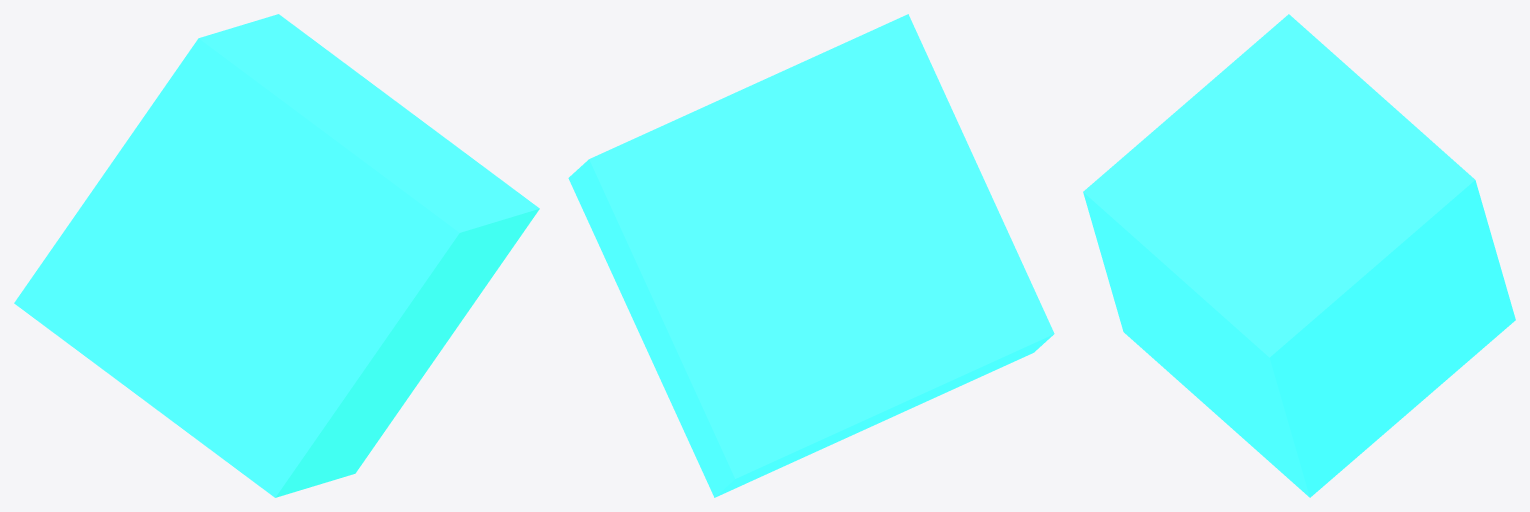
The model's file is spark.glb.
3 views of the same model, side by side, from view 1: azimuth 30°, elevation 25°; view 2: azimuth 150°, elevation 25°; view 3: azimuth 270°, elevation 25° (orthographic). The views are drawn at different scales.
Visible parts, largest first — view 1: Spark; view 2: Spark; view 3: Spark.
Part boxes in pixels (x1,y1,x2,y2): Spark: [14, 14, 539, 497]; Spark: [568, 14, 1054, 497]; Spark: [1083, 14, 1515, 497].
Bounding box in the file's own units: 0.2406 × 0.2276 × 0.2159.
